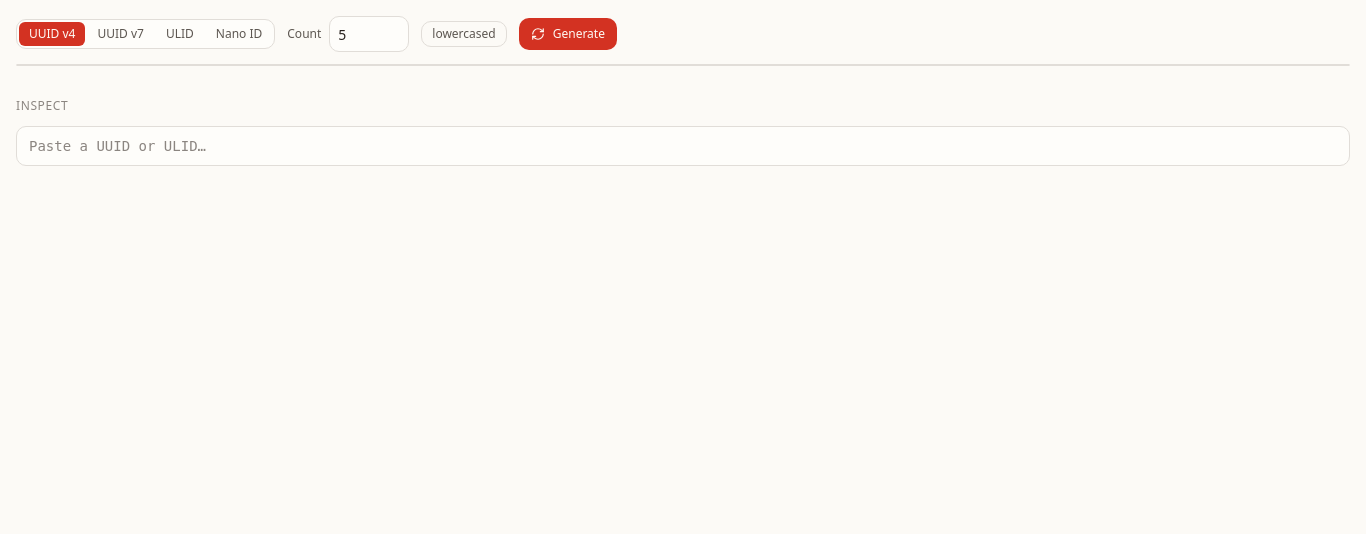
Test: UuidTool › inspects a pasted id
In the field named "ID to inspect": (683, 146) 16,126 -> 1350,166, type "11111111-1111-4111-8111-111111111111"
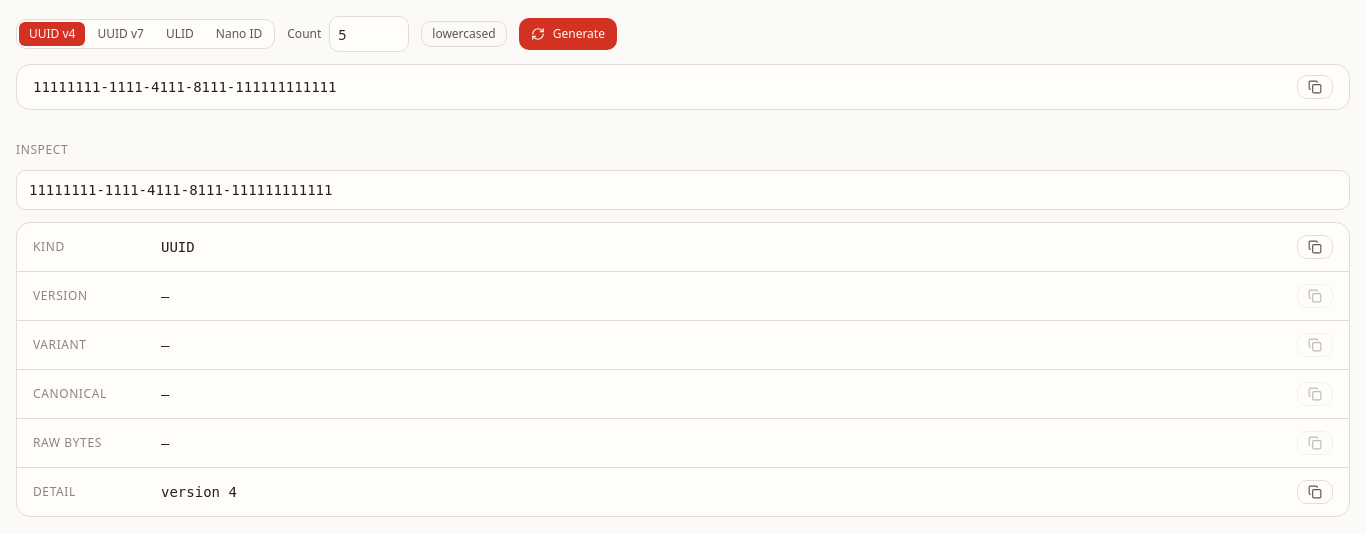
Check: the text "version 4" is shown, box 161,484 -> 237,500
